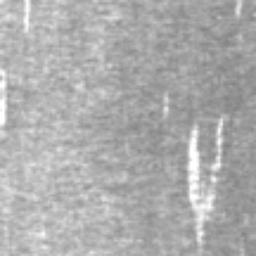White rust: (185, 125, 216, 245), (211, 116, 224, 182), (0, 69, 8, 126), (22, 0, 31, 35), (162, 92, 169, 117), (235, 0, 242, 17)
